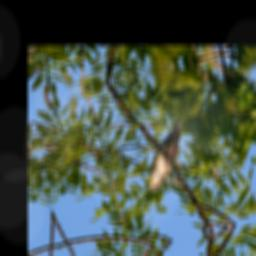Cuckoo: (133, 117, 196, 192)
